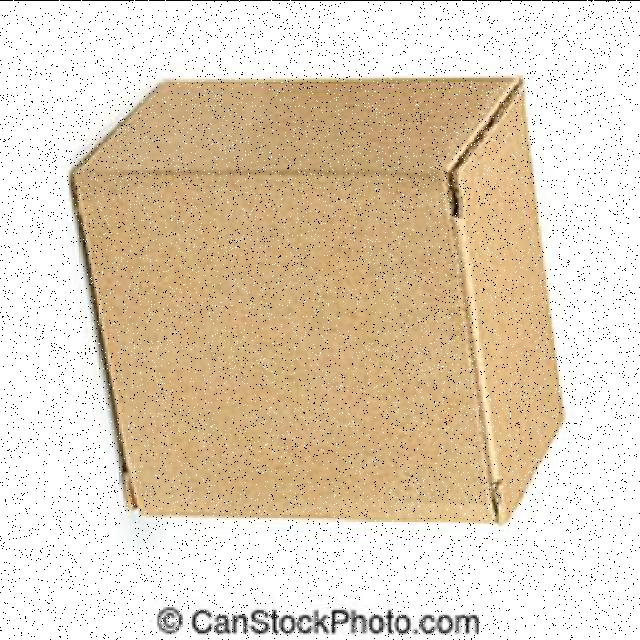normal: (65, 63, 568, 534)
